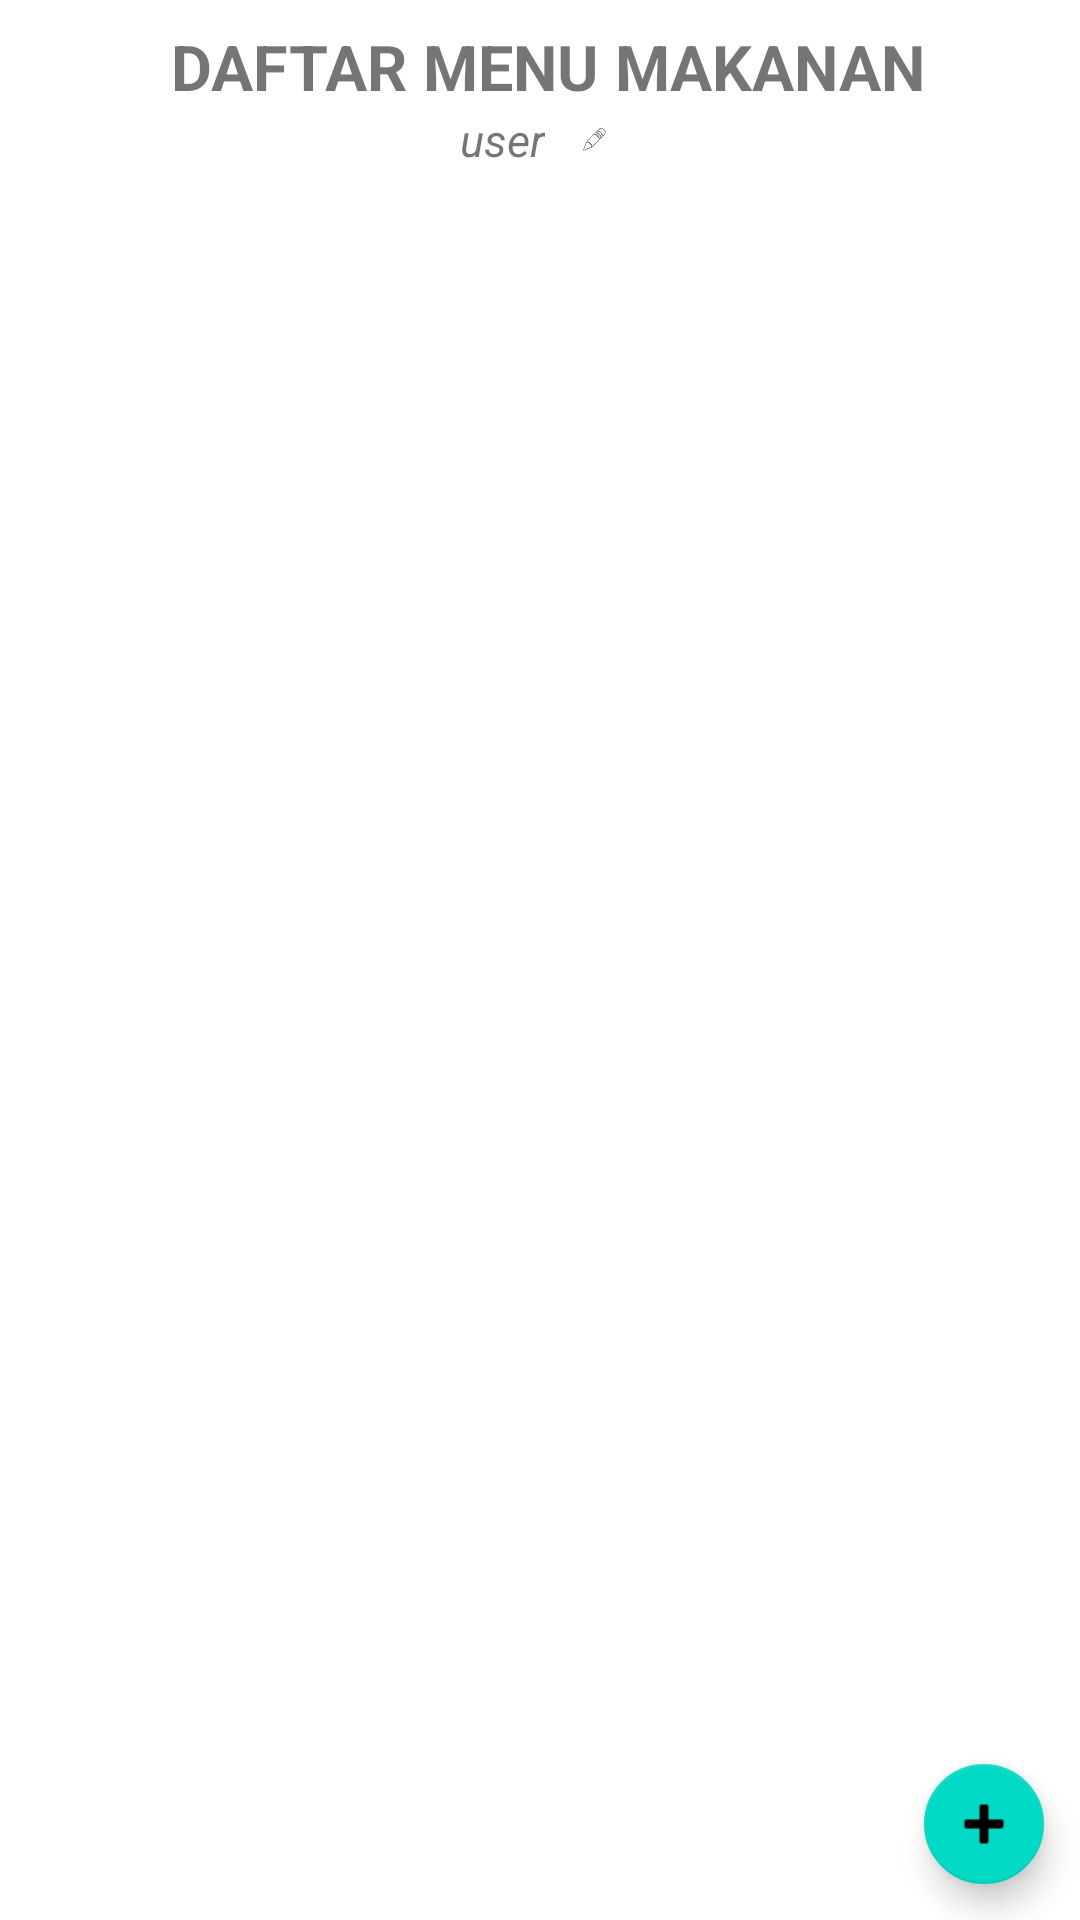

Screen size 1080 × 1920. Icon name, then its center in pixels as [x,y]:
add: [985,1830]
